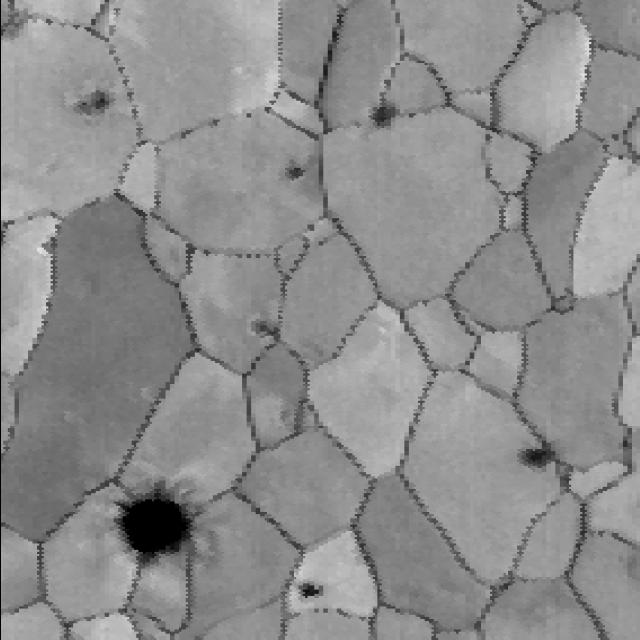good_void: (104, 488, 200, 562), (358, 99, 402, 151), (237, 316, 290, 348), (74, 87, 116, 125), (508, 442, 556, 475), (293, 579, 326, 604), (282, 157, 307, 188), (301, 219, 318, 233)
